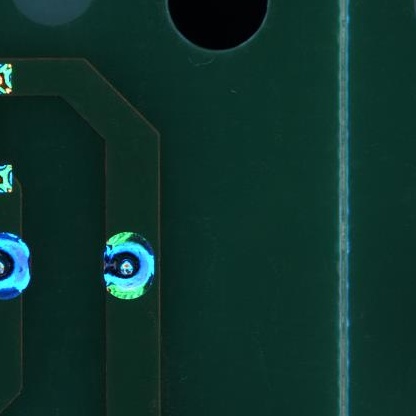spot: (102, 230, 157, 302)
